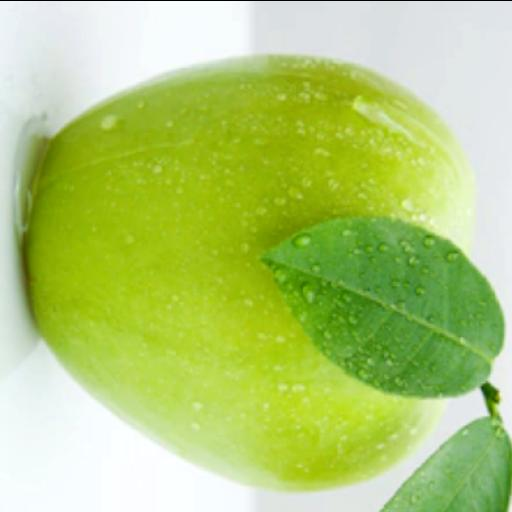apple: (26, 56, 473, 489)
